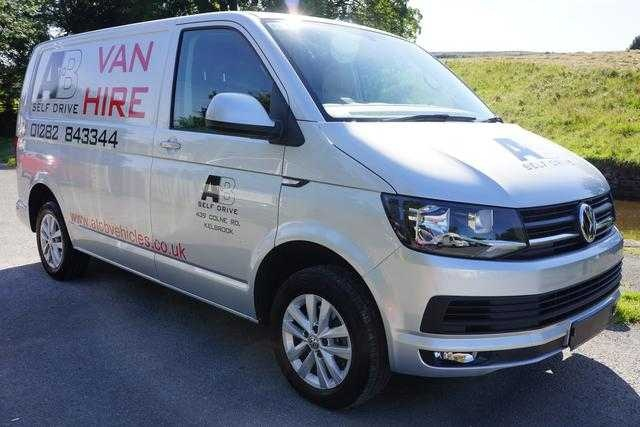van: (14, 9, 625, 414)
